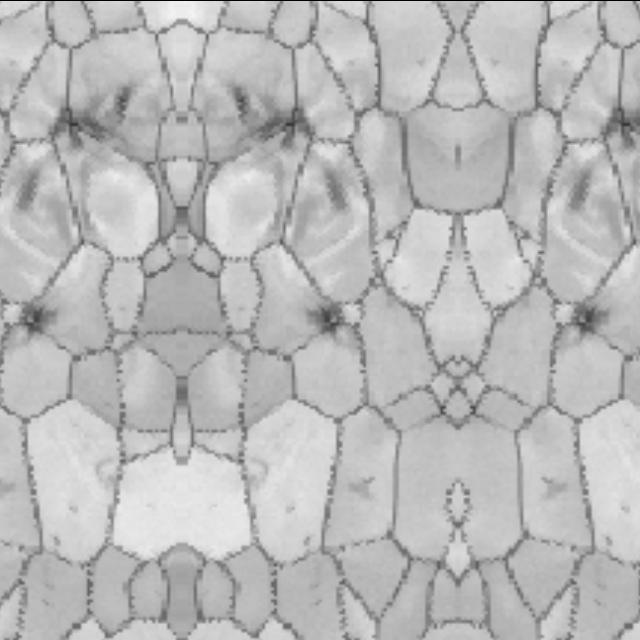good_void: (228, 78, 321, 166), (43, 79, 135, 166), (295, 286, 362, 347), (559, 291, 619, 341), (6, 291, 66, 341), (598, 102, 640, 159), (566, 161, 597, 208), (321, 161, 351, 208), (13, 161, 43, 208), (344, 471, 381, 503), (538, 472, 574, 503), (0, 476, 19, 498), (619, 501, 633, 517), (66, 501, 79, 517), (286, 502, 299, 517), (301, 533, 313, 547), (605, 533, 616, 546), (51, 533, 62, 546)
